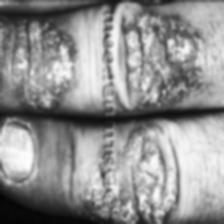Non-Cancerous Skin Condition: (118, 0, 224, 109), (0, 15, 74, 102), (124, 117, 183, 224), (0, 125, 44, 188), (83, 128, 97, 212)
